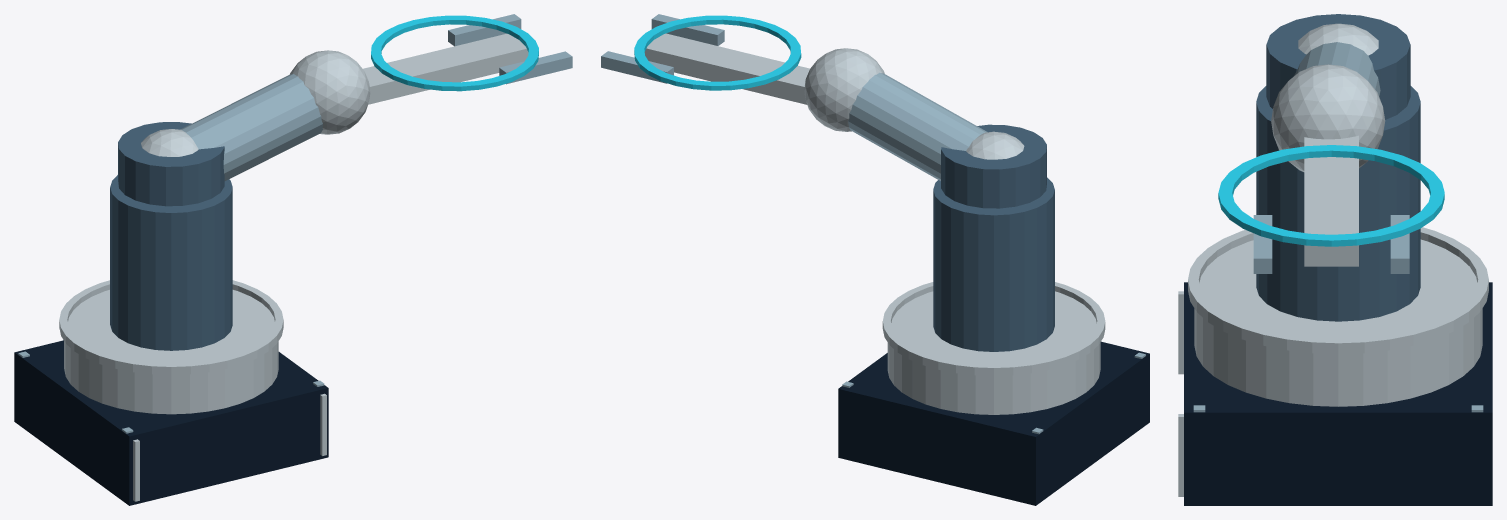
File: 12_L74_AutomatedWaferHandlingRobot.fbx
3 views of the same model, side by side, from view 1: azimuth 30°, elevation 25°; view 2: azimuth 150°, elevation 25°; view 3: azimuth 270°, elevation 25° (orthographic). The views are drawn at different scales.
Visible parts, largest first — view 1: AutomatedWaferHandlingRobot, AutomatedWaferHandlingRobot_Part_0009, AutomatedWaferHandlingRobot_Part_0007, AutomatedWaferHandlingRobot_Part_0010, AutomatedWaferHandlingRobot_Part_0013, AutomatedWaferHandlingRobot_Part_0014, AutomatedWaferHandlingRobot_Part_0008, AutomatedWaferHandlingRobot_Part_0012, AutomatedWaferHandlingRobot_Part_0017, AutomatedWaferHandlingRobot_Part_0011, AutomatedWaferHandlingRobot_Part_0015, AutomatedWaferHandlingRobot_Part_0016; view 2: AutomatedWaferHandlingRobot, AutomatedWaferHandlingRobot_Part_0009, AutomatedWaferHandlingRobot_Part_0007, AutomatedWaferHandlingRobot_Part_0010, AutomatedWaferHandlingRobot_Part_0013, AutomatedWaferHandlingRobot_Part_0014, AutomatedWaferHandlingRobot_Part_0008, AutomatedWaferHandlingRobot_Part_0012, AutomatedWaferHandlingRobot_Part_0017, AutomatedWaferHandlingRobot_Part_0011, AutomatedWaferHandlingRobot_Part_0016, AutomatedWaferHandlingRobot_Part_0015; view 3: AutomatedWaferHandlingRobot, AutomatedWaferHandlingRobot_Part_0007, AutomatedWaferHandlingRobot_Part_0009, AutomatedWaferHandlingRobot_Part_0012, AutomatedWaferHandlingRobot_Part_0008, AutomatedWaferHandlingRobot_Part_0017, AutomatedWaferHandlingRobot_Part_0013, AutomatedWaferHandlingRobot_Part_0014, AutomatedWaferHandlingRobot_Part_0010, AutomatedWaferHandlingRobot_Part_0011, AutomatedWaferHandlingRobot_Part_0015, AutomatedWaferHandlingRobot_Part_0016.
Part boxes in pixels (x1,y1,x2,y2): AutomatedWaferHandlingRobot: (14, 340, 328, 505); AutomatedWaferHandlingRobot_Part_0009: (110, 175, 232, 350); AutomatedWaferHandlingRobot_Part_0007: (64, 290, 278, 414); AutomatedWaferHandlingRobot_Part_0010: (180, 74, 322, 180); AutomatedWaferHandlingRobot_Part_0013: (118, 122, 224, 206); AutomatedWaferHandlingRobot_Part_0014: (363, 33, 528, 104); AutomatedWaferHandlingRobot_Part_0008: (59, 280, 283, 374); AutomatedWaferHandlingRobot_Part_0012: (290, 50, 370, 134); AutomatedWaferHandlingRobot_Part_0017: (371, 15, 538, 91); AutomatedWaferHandlingRobot_Part_0011: (141, 129, 198, 156); AutomatedWaferHandlingRobot_Part_0015: (448, 14, 521, 46); AutomatedWaferHandlingRobot_Part_0016: (499, 51, 572, 84); AutomatedWaferHandlingRobot: (838, 341, 1149, 505); AutomatedWaferHandlingRobot_Part_0009: (933, 177, 1054, 351); AutomatedWaferHandlingRobot_Part_0007: (887, 291, 1100, 414); AutomatedWaferHandlingRobot_Part_0010: (848, 72, 987, 180); AutomatedWaferHandlingRobot_Part_0013: (941, 124, 1046, 208); AutomatedWaferHandlingRobot_Part_0014: (644, 33, 809, 104); AutomatedWaferHandlingRobot_Part_0008: (882, 282, 1105, 375); AutomatedWaferHandlingRobot_Part_0012: (804, 48, 884, 131); AutomatedWaferHandlingRobot_Part_0017: (634, 15, 801, 90); AutomatedWaferHandlingRobot_Part_0011: (966, 131, 1024, 159); AutomatedWaferHandlingRobot_Part_0016: (651, 14, 724, 45); AutomatedWaferHandlingRobot_Part_0015: (601, 51, 673, 83); AutomatedWaferHandlingRobot: (1178, 282, 1492, 505); AutomatedWaferHandlingRobot_Part_0007: (1194, 239, 1482, 406); AutomatedWaferHandlingRobot_Part_0009: (1256, 86, 1420, 321); AutomatedWaferHandlingRobot_Part_0012: (1271, 64, 1385, 171); AutomatedWaferHandlingRobot_Part_0008: (1188, 227, 1488, 354); AutomatedWaferHandlingRobot_Part_0017: (1218, 145, 1444, 246); AutomatedWaferHandlingRobot_Part_0013: (1266, 14, 1410, 119); AutomatedWaferHandlingRobot_Part_0014: (1304, 135, 1358, 266); AutomatedWaferHandlingRobot_Part_0010: (1293, 42, 1380, 96); AutomatedWaferHandlingRobot_Part_0011: (1298, 23, 1378, 55); AutomatedWaferHandlingRobot_Part_0015: (1390, 215, 1409, 273); AutomatedWaferHandlingRobot_Part_0016: (1253, 215, 1272, 273).
Size of the model in its own units: 212 by 152 by 91.74.
